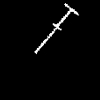double_crochet: (35, 3, 77, 53)
